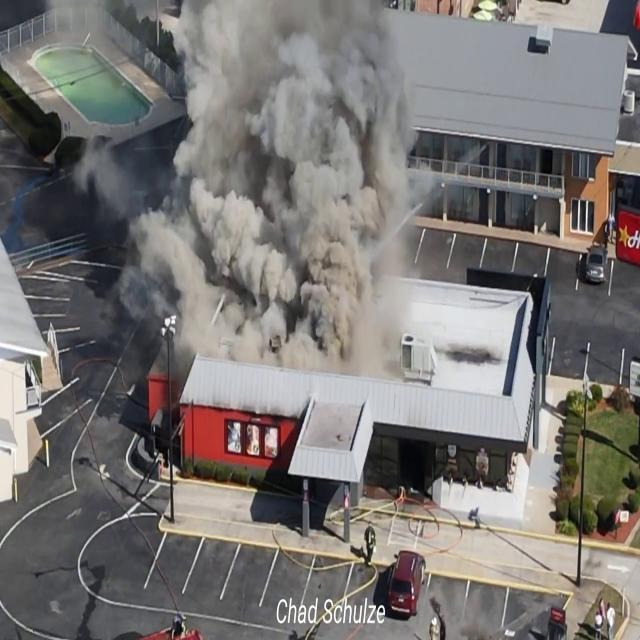Smoke: (42, 1, 429, 370)
